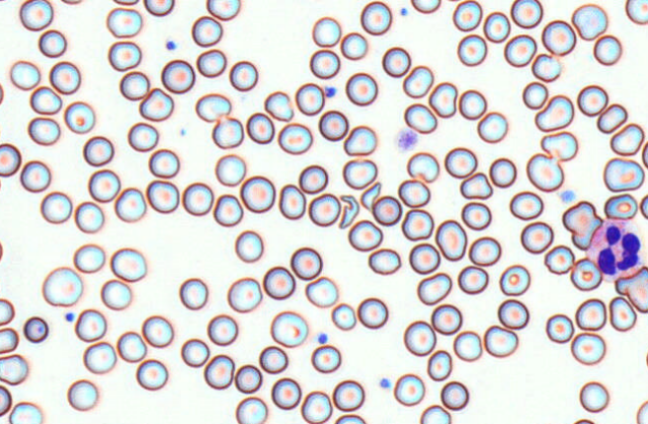GRAN: (585, 210, 644, 280)
PLT: (558, 190, 580, 205), (163, 37, 179, 51), (378, 377, 392, 391), (63, 310, 77, 323), (323, 85, 337, 98), (316, 331, 329, 344), (399, 6, 411, 18)
RBC: (42, 266, 82, 306), (526, 152, 564, 192), (534, 94, 574, 132), (603, 157, 644, 192), (270, 310, 308, 347), (435, 219, 467, 261), (571, 3, 607, 40), (240, 175, 275, 213), (541, 19, 576, 56), (110, 247, 146, 282), (227, 277, 262, 312), (403, 320, 436, 356), (416, 272, 452, 305), (139, 87, 173, 121), (161, 59, 195, 93), (570, 332, 605, 365), (483, 324, 518, 357), (609, 122, 644, 155), (262, 265, 295, 299), (211, 115, 244, 149), (146, 179, 179, 213), (503, 34, 537, 67), (347, 219, 382, 251), (114, 187, 146, 222), (277, 122, 312, 154), (360, 0, 392, 35), (106, 7, 142, 38), (520, 221, 553, 254), (83, 341, 116, 374), (401, 208, 434, 241), (570, 257, 602, 291), (88, 168, 120, 202), (308, 192, 340, 226), (290, 246, 322, 280), (343, 124, 377, 156), (345, 72, 377, 106), (203, 354, 234, 389), (342, 158, 377, 189), (195, 92, 231, 122), (393, 373, 425, 406), (300, 390, 332, 423), (214, 153, 246, 186), (444, 146, 477, 178), (304, 276, 338, 307), (75, 308, 106, 342), (575, 297, 606, 331), (182, 181, 213, 215), (49, 60, 80, 94), (403, 102, 437, 133), (107, 40, 141, 71), (428, 81, 457, 117), (136, 358, 168, 390), (408, 242, 440, 274), (40, 191, 72, 223), (332, 379, 364, 411), (476, 111, 508, 143), (576, 84, 608, 116), (142, 314, 173, 347), (207, 313, 238, 346), (64, 100, 95, 133), (406, 151, 439, 182), (402, 65, 433, 98), (456, 33, 487, 66), (509, 190, 543, 220), (19, 0, 53, 30), (608, 295, 636, 331), (278, 183, 306, 219), (497, 298, 529, 329), (67, 379, 98, 411), (499, 264, 530, 296), (371, 194, 402, 226), (100, 278, 131, 310), (357, 297, 388, 329), (82, 135, 114, 166), (213, 193, 243, 226), (468, 236, 501, 266), (295, 82, 325, 115), (431, 303, 462, 334), (191, 15, 222, 46), (271, 377, 301, 409), (20, 160, 50, 192), (74, 201, 104, 233), (73, 243, 105, 273), (318, 109, 348, 141), (29, 85, 62, 114), (234, 229, 263, 262), (27, 116, 60, 145), (397, 178, 430, 207), (367, 247, 401, 275), (116, 331, 146, 362), (579, 381, 609, 412), (452, 330, 482, 361), (148, 148, 179, 178), (127, 121, 158, 151), (596, 103, 627, 133), (452, 0, 482, 31), (311, 16, 341, 47), (309, 49, 340, 79), (179, 277, 208, 309), (459, 171, 492, 199), (510, 0, 543, 28), (544, 244, 574, 274), (119, 70, 149, 100), (10, 60, 40, 90), (531, 52, 561, 82), (310, 344, 341, 373), (460, 201, 491, 230), (457, 265, 488, 294), (229, 60, 258, 91), (381, 46, 410, 77), (593, 34, 622, 65), (0, 353, 28, 385), (246, 112, 274, 144), (604, 193, 637, 220), (545, 313, 574, 343), (440, 380, 469, 410), (258, 345, 288, 374), (298, 164, 328, 193), (196, 48, 226, 77), (488, 157, 516, 188), (235, 396, 267, 423), (180, 338, 209, 367), (458, 89, 486, 119), (483, 11, 510, 42), (426, 349, 452, 381), (234, 364, 262, 393), (38, 29, 66, 57), (340, 31, 367, 60), (8, 401, 42, 423), (330, 302, 356, 330), (522, 81, 548, 109), (0, 142, 21, 176), (206, 0, 240, 20), (23, 316, 48, 343), (419, 404, 450, 423), (625, 0, 647, 25), (143, 0, 174, 16), (0, 327, 18, 353), (410, 0, 441, 13), (0, 297, 14, 325), (0, 385, 11, 416), (334, 413, 365, 423), (636, 400, 647, 423), (639, 193, 647, 219), (641, 140, 648, 168), (112, 0, 139, 5), (572, 418, 595, 423), (60, 0, 82, 5), (0, 81, 4, 104), (0, 238, 3, 261), (645, 350, 648, 368)
Schistocyte: (560, 200, 604, 251), (615, 263, 648, 316), (541, 132, 579, 163), (264, 91, 295, 122), (340, 193, 361, 230), (361, 180, 382, 211)
